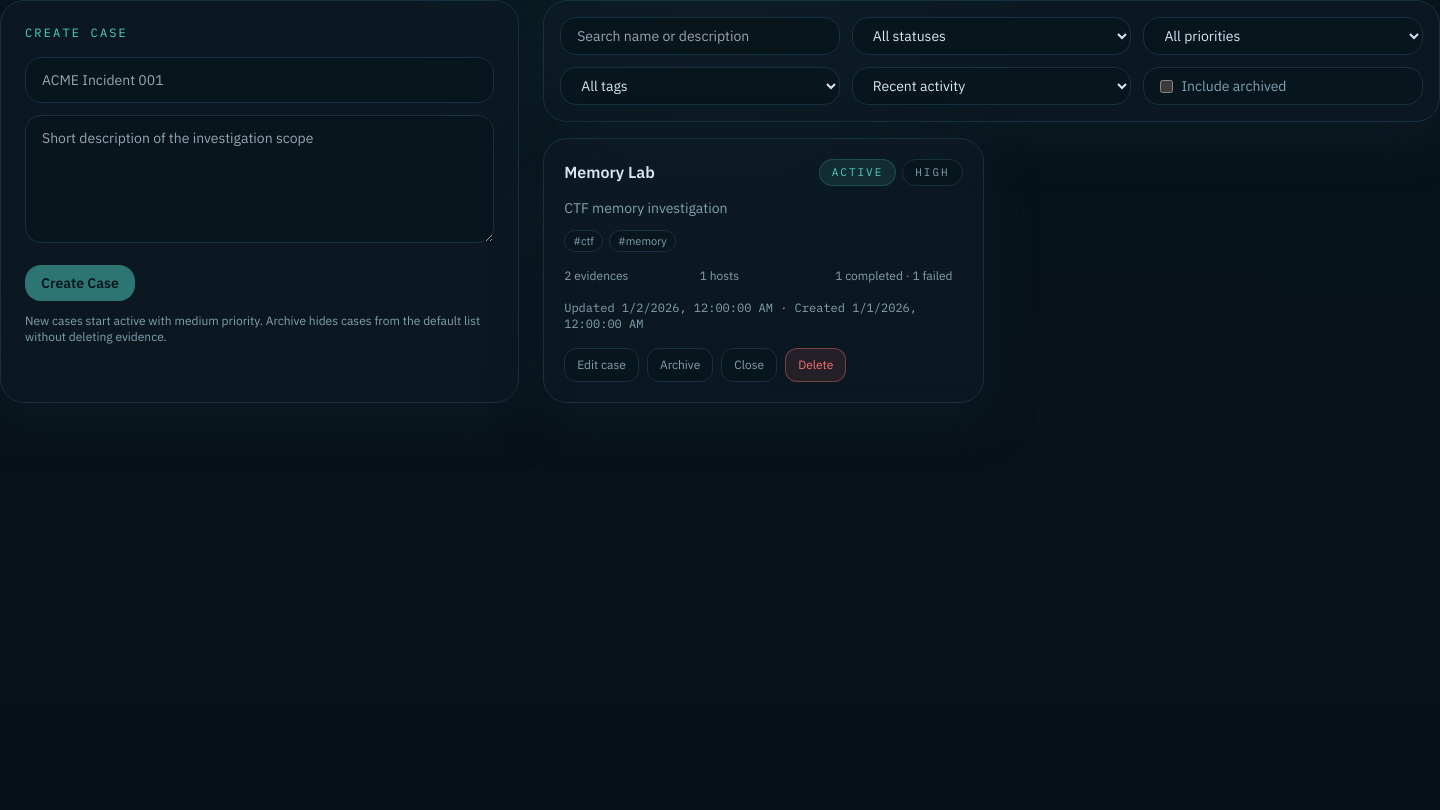
Test: Cases page › Delete Case › opens a confirmation dialog with the deletion scope
This screenshot has width=1440, height=810.
Expected: the heading "Memory Lab" is shown, [564,160,655,184]
Click the button "Delete" at (816, 365), box [785,348,846,382]
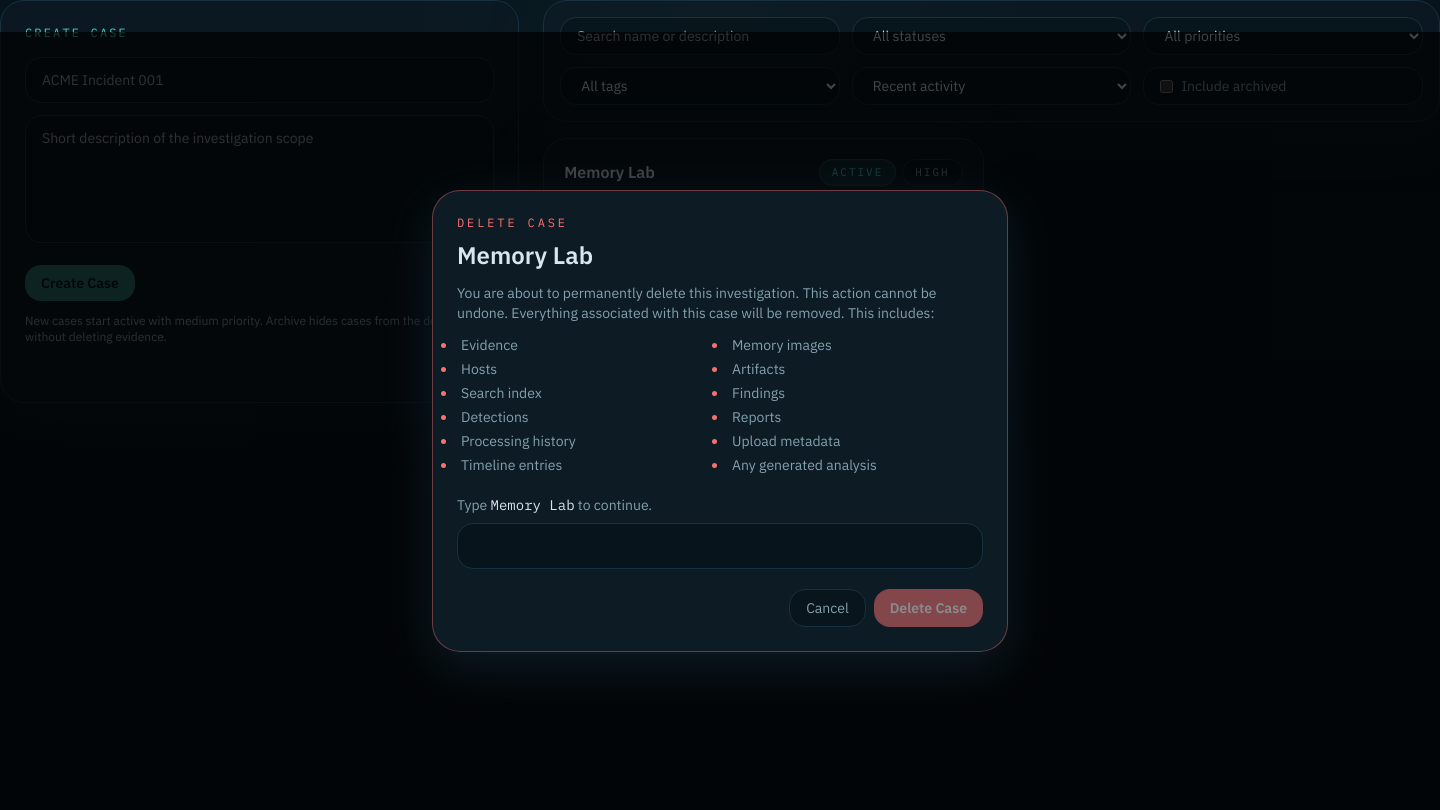
Expected: the text "permanently delete this investigation" is shown, [457,284,937,322]
Expected: the list item "Evidence" is shown, [461,336,518,354]
Expected: the list item "Memory images" is shown, [732,336,832,354]
